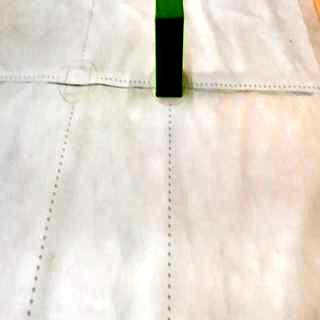greenbox: (156, 0, 183, 95)
